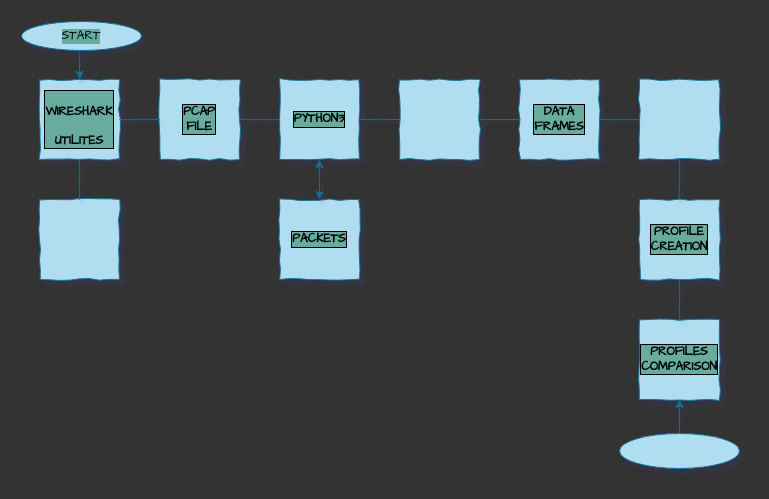
Image size: 769x499. Some labels were removed from this diagram. The shapes that lost their labels are listed below. From the top down, each one's centre as x and y in pixels, then its label:
At point (440, 120): "DNS PACKETS".
At point (680, 120): "VISUALI ZATION".
At point (80, 240): "tshark capinfos".
At point (680, 452): "STOP".
